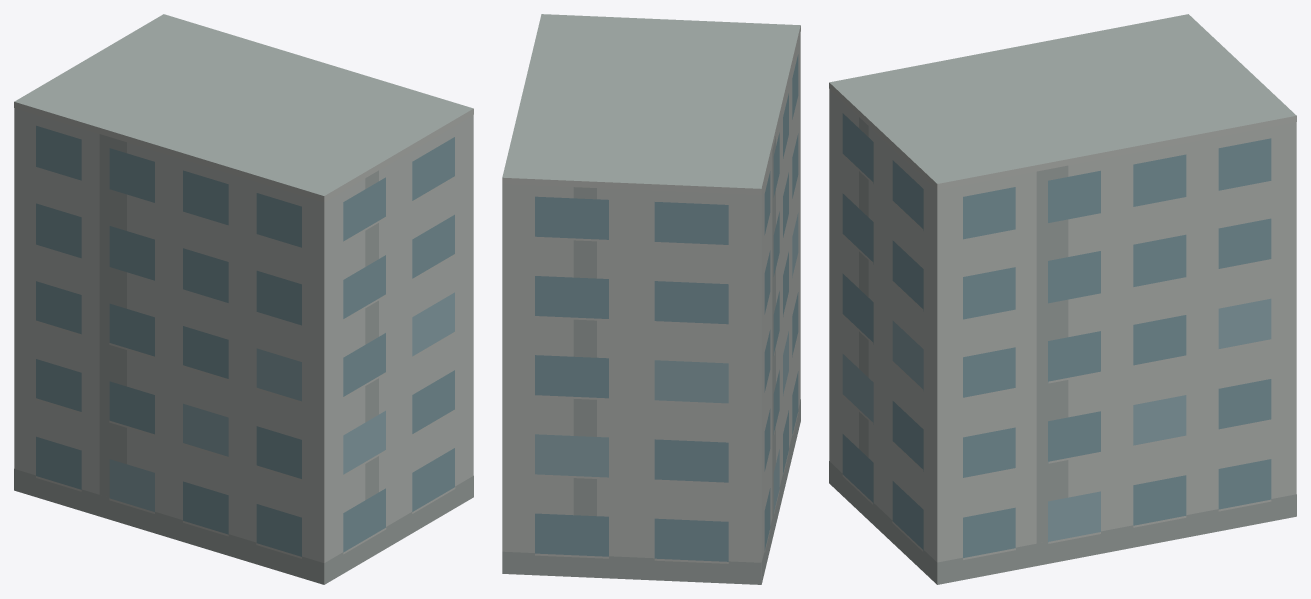
The model's file is residential-9f544622-542e-4dcc-a290-1053d6bd04a3.glb.
The picture shows the model from 3 angles, left to right: view 1: azimuth 30°, elevation 25°; view 2: azimuth 150°, elevation 25°; view 3: azimuth 270°, elevation 25°; orthographic projection. The views are drawn at different scales.
Parts seen in each view (by area): view 1: residential-9f544622-542e-4dcc-a290-1053d6bd04a3.tmp; view 2: residential-9f544622-542e-4dcc-a290-1053d6bd04a3.tmp; view 3: residential-9f544622-542e-4dcc-a290-1053d6bd04a3.tmp.
Part boxes in pixels (bbox=[...]): residential-9f544622-542e-4dcc-a290-1053d6bd04a3.tmp: bbox=[14, 14, 473, 584]; residential-9f544622-542e-4dcc-a290-1053d6bd04a3.tmp: bbox=[502, 14, 800, 584]; residential-9f544622-542e-4dcc-a290-1053d6bd04a3.tmp: bbox=[829, 14, 1296, 584].
Bounding box in the file's own units: 13.88 × 15.25 × 16.13.
